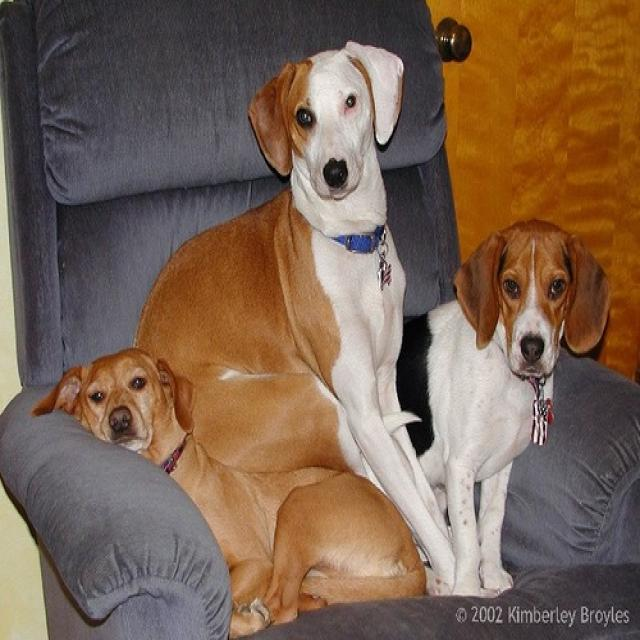chair: (0, 2, 639, 638)
dog: (129, 43, 467, 600), (36, 342, 430, 632), (394, 217, 603, 606)
